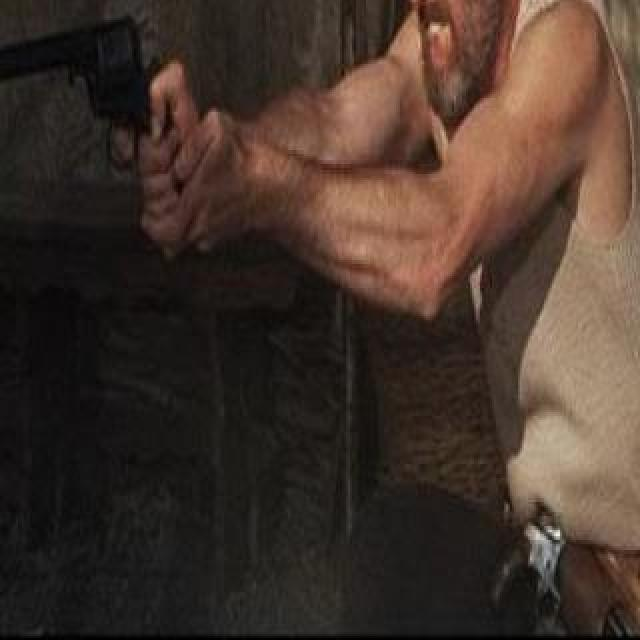Guns: (0, 0, 230, 182)
